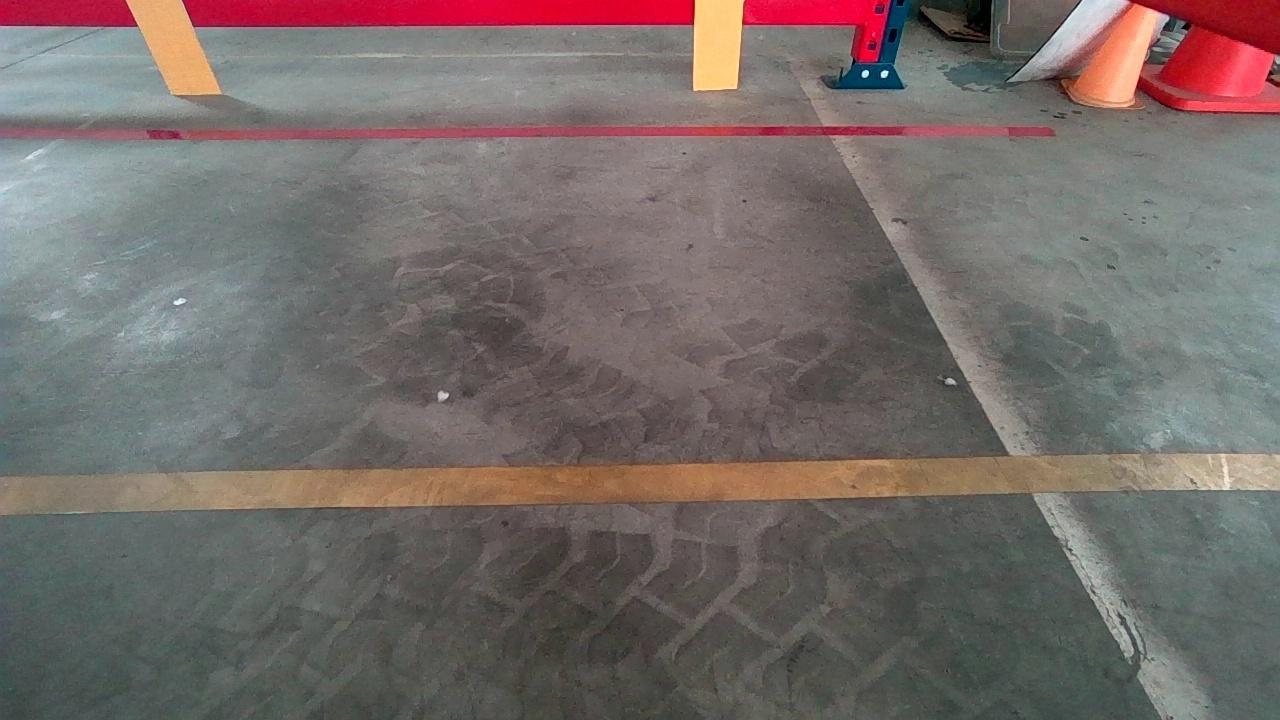orange_strip: (123, 0, 222, 91), (693, 0, 742, 87)
red_line: (14, 119, 1033, 151)
yellow_line: (0, 447, 1279, 519)
